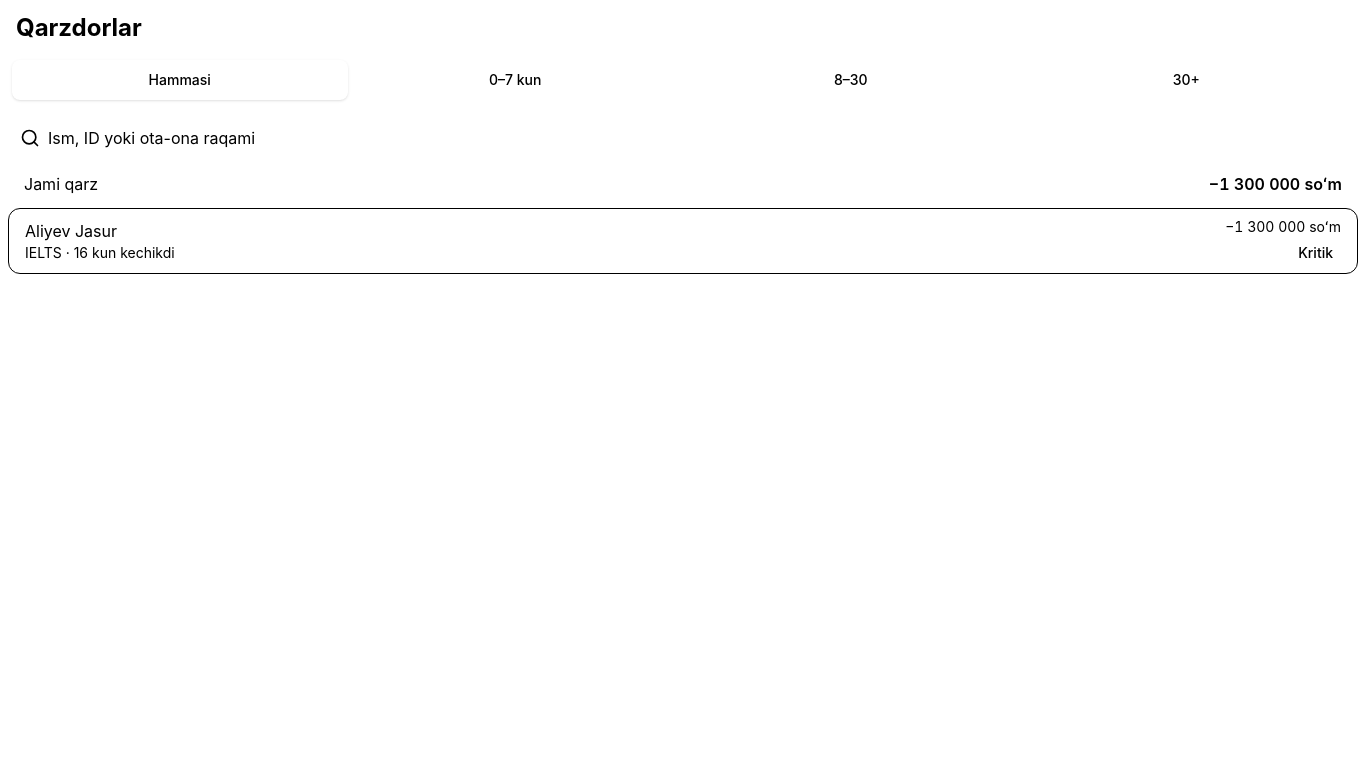
Test: MS-08 Qarzdorlar (T-132) › Q-100: Telegram ulanmagan — eslatma tugmasi yoʻq, sababi yozilgan
What coordinates should you click on to do the following:
click the button "Aliyev Jasur IELTS · 16 kun kechikdi −1 300 000 soʻm Kritik"
I would click on:
 (71, 231)
Its box is [9,209,1357,273].
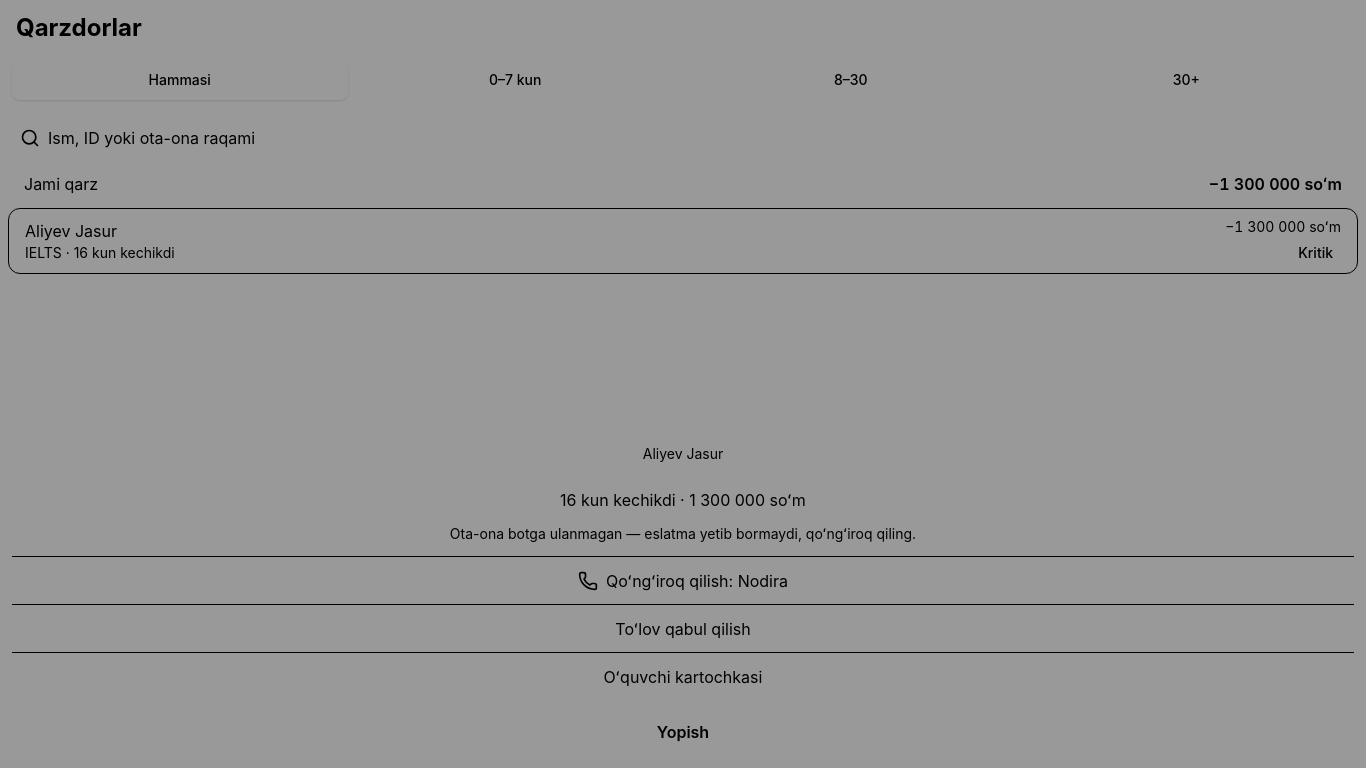
Expected: the text "Ota-ona botga ulanmagan — eslatma yetib bormaydi, qoʻngʻiroq qiling." is shown, [450,525,916,542]
